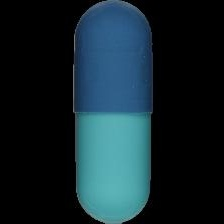68084-818: (0, 0, 224, 224)
